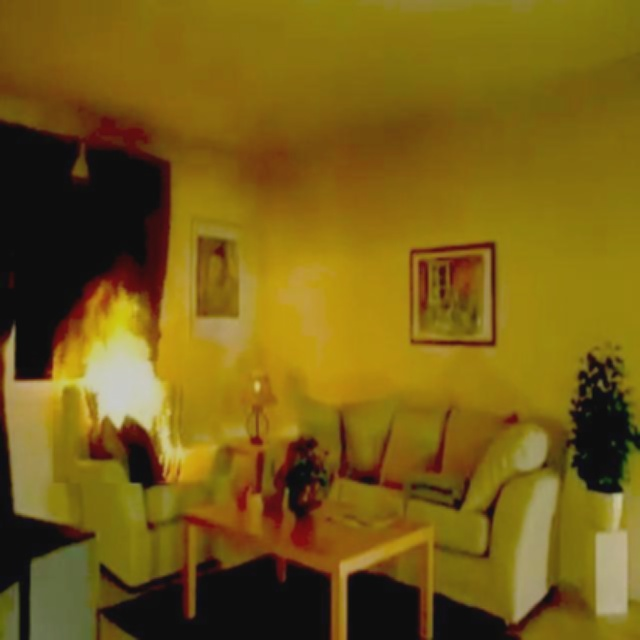fire: (52, 274, 198, 509)
